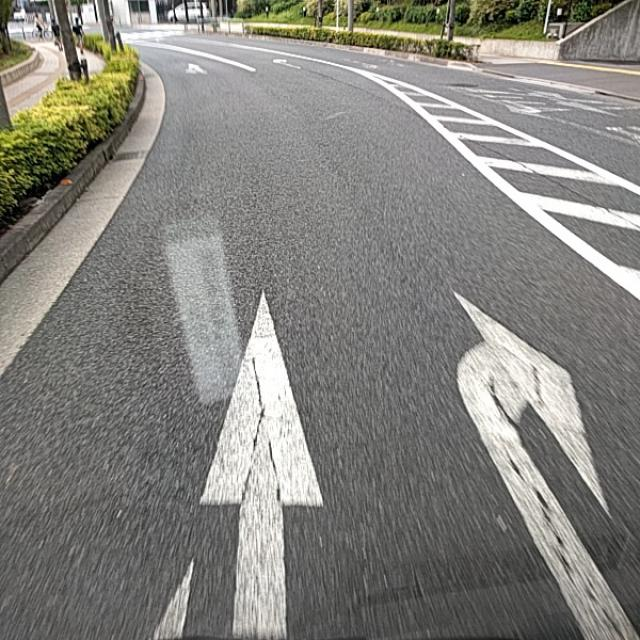pothole: (248, 375, 282, 511)
